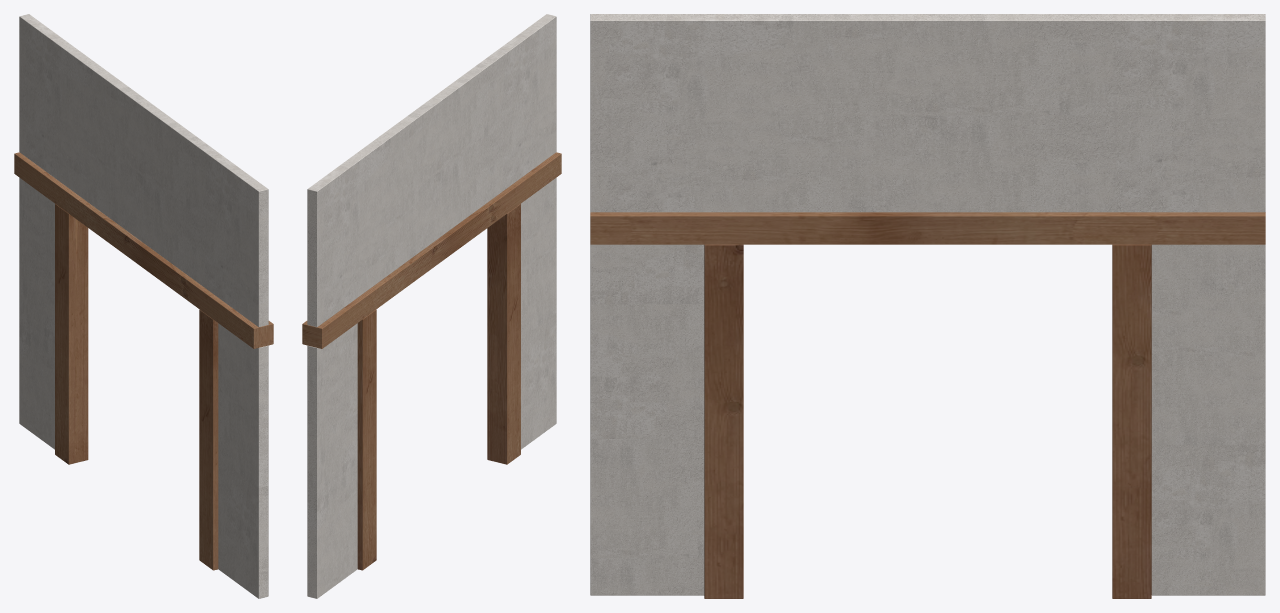
File: SM_JSH_WallF.fbx
3 views of the same model, side by side, from view 1: azimuth 30°, elevation 25°; view 2: azimuth 150°, elevation 25°; view 3: azimuth 270°, elevation 25° (orthographic). The views are drawn at different scales.
Visible parts, largest first — view 1: SM_JSH_WallF; view 2: SM_JSH_WallF; view 3: SM_JSH_WallF.
Part boxes in pixels (x1=…): SM_JSH_WallF: x1=14, y1=14, x2=273, y2=598; SM_JSH_WallF: x1=302, y1=14, x2=561, y2=598; SM_JSH_WallF: x1=590, y1=14, x2=1265, y2=598.
Bounding box in the file's own units: 11.78 × 245 × 230.
1 material, 1 textured.
